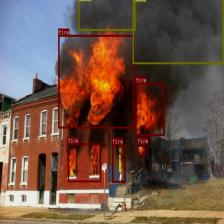fire: (58, 34, 134, 128), (135, 82, 164, 136), (67, 143, 101, 182), (112, 144, 125, 182), (137, 143, 145, 156)
smoke: (132, 0, 224, 64), (78, 0, 135, 30)
